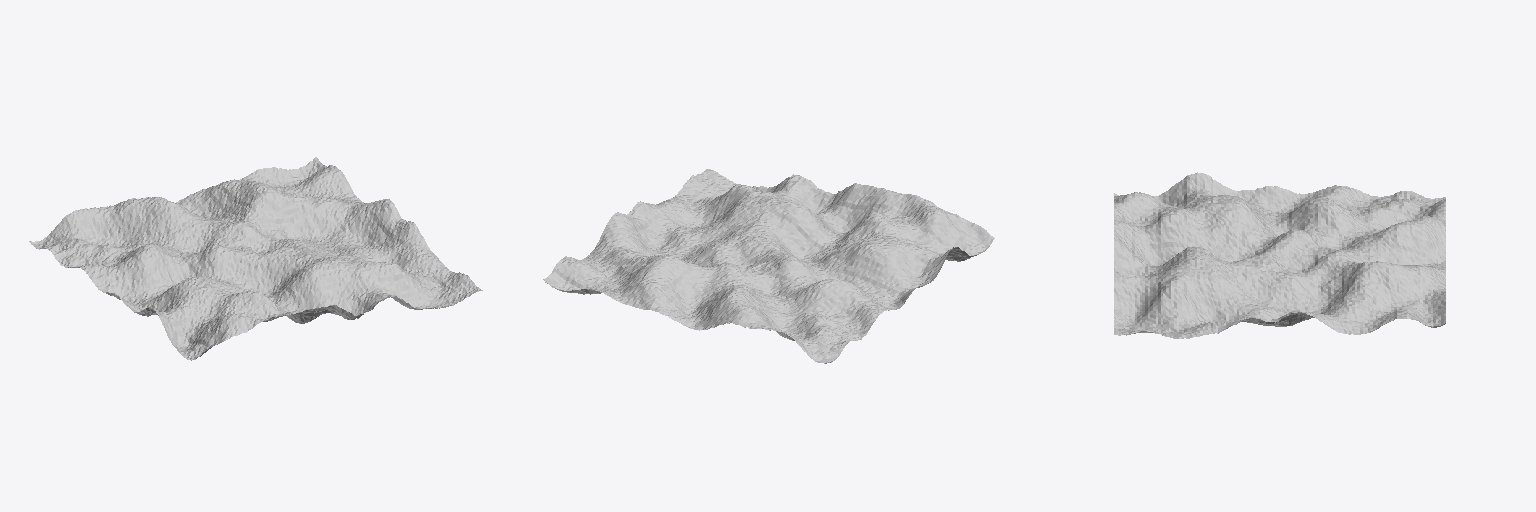
File: hasil.obj
The picture shows the model from 3 angles: view 1: azimuth 30°, elevation 25°; view 2: azimuth 150°, elevation 25°; view 3: azimuth 270°, elevation 25°; orthographic projection.
Parts seen in each view (by area): view 1: Plane; view 2: Plane; view 3: Plane.
Part boxes in pixels (x1,y1,x2,y2): Plane: (29, 157, 482, 360); Plane: (543, 169, 994, 363); Plane: (1114, 172, 1445, 338).
Size of the model in its own units: 254 by 34.23 by 254.